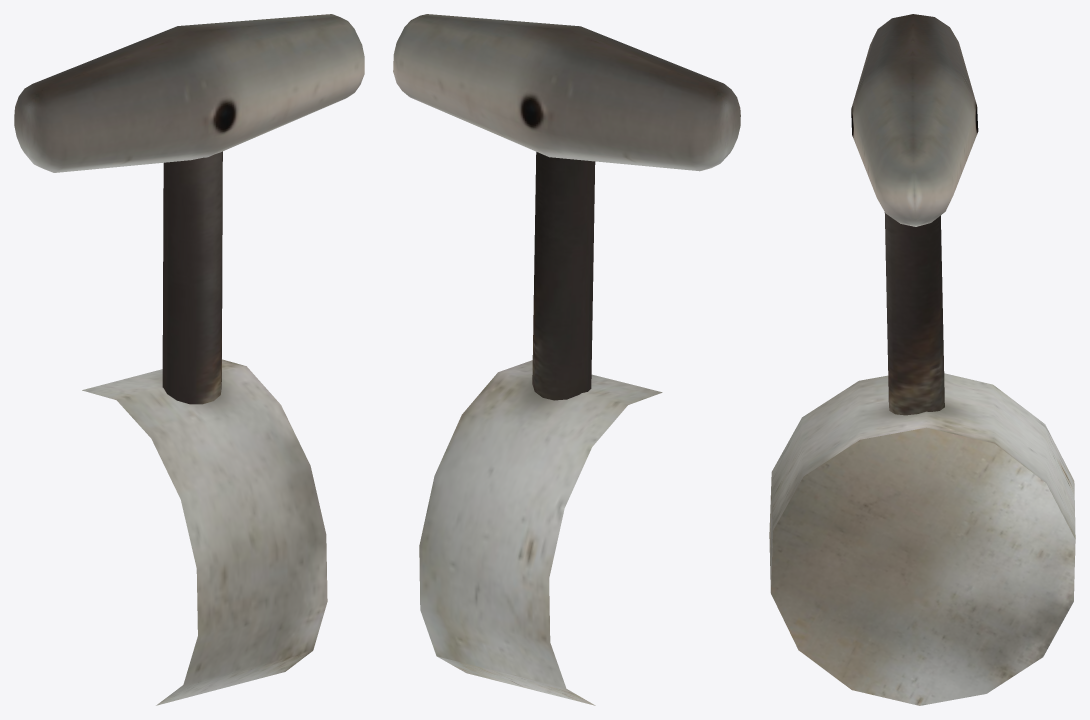
File: Unity2Skfb.gltf
3 renders of one model, left to right at view 1: azimuth 30°, elevation 25°; view 2: azimuth 150°, elevation 25°; view 3: azimuth 270°, elevation 25°, orthographic. The views are drawn at different scales.
Parts seen in each view (by area): view 1: node_A31_-196476; view 2: node_A31_-196476; view 3: node_A31_-196476.
Part boxes in pixels (left/top/right/bottom): node_A31_-196476: left=14, top=14, right=364, bottom=705; node_A31_-196476: left=393, top=14, right=740, bottom=705; node_A31_-196476: left=769, top=14, right=1075, bottom=705.
Size of the model in its own units: 0.1187 by 0.2257 by 0.1016.
1 material, 1 textured.
